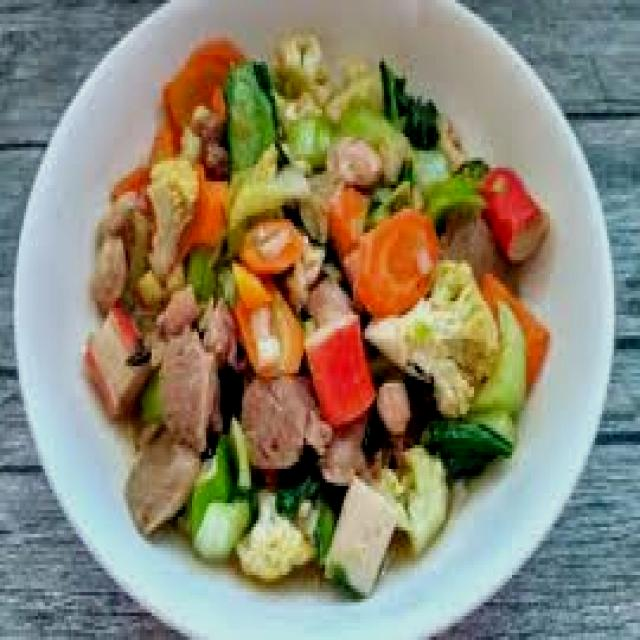capcay: (81, 31, 552, 599)
